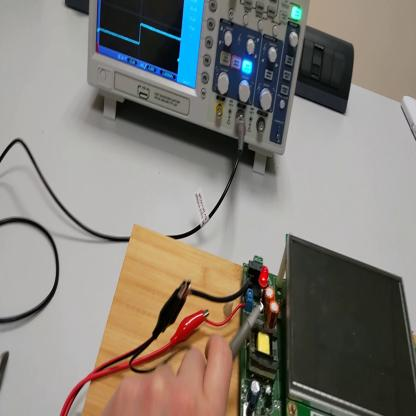hand: (100, 332, 238, 416)
low voltage board: (187, 235, 416, 416)
oscilloscope: (90, 1, 310, 179)
oscilloscope probe tip: (228, 300, 261, 357)
pliers: (1, 346, 10, 390)
socket: (66, 1, 90, 16)
working area: (82, 226, 244, 414)
